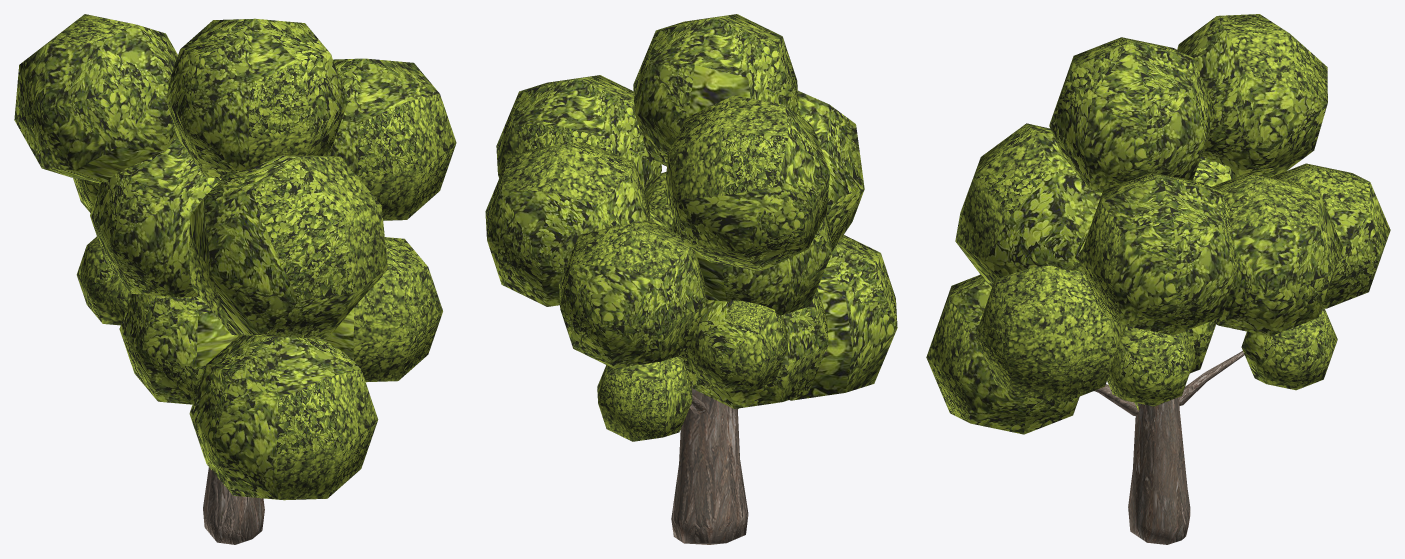
Rendered from tree03.fbx.
3 views of the same model, side by side, from view 1: azimuth 30°, elevation 25°; view 2: azimuth 150°, elevation 25°; view 3: azimuth 270°, elevation 25° (orthographic). The views are drawn at different scales.
Visible parts, largest first — view 1: Cube.001; view 2: Cube.001; view 3: Cube.001.
Boxes of the visible parts, x1,y1,x2,y2 form: Cube.001: (14, 14, 456, 544); Cube.001: (485, 14, 897, 544); Cube.001: (926, 14, 1390, 544).
Bounding box in the file's own units: 841 × 1159 × 974.
Materials: 1 (1 with a texture image).
